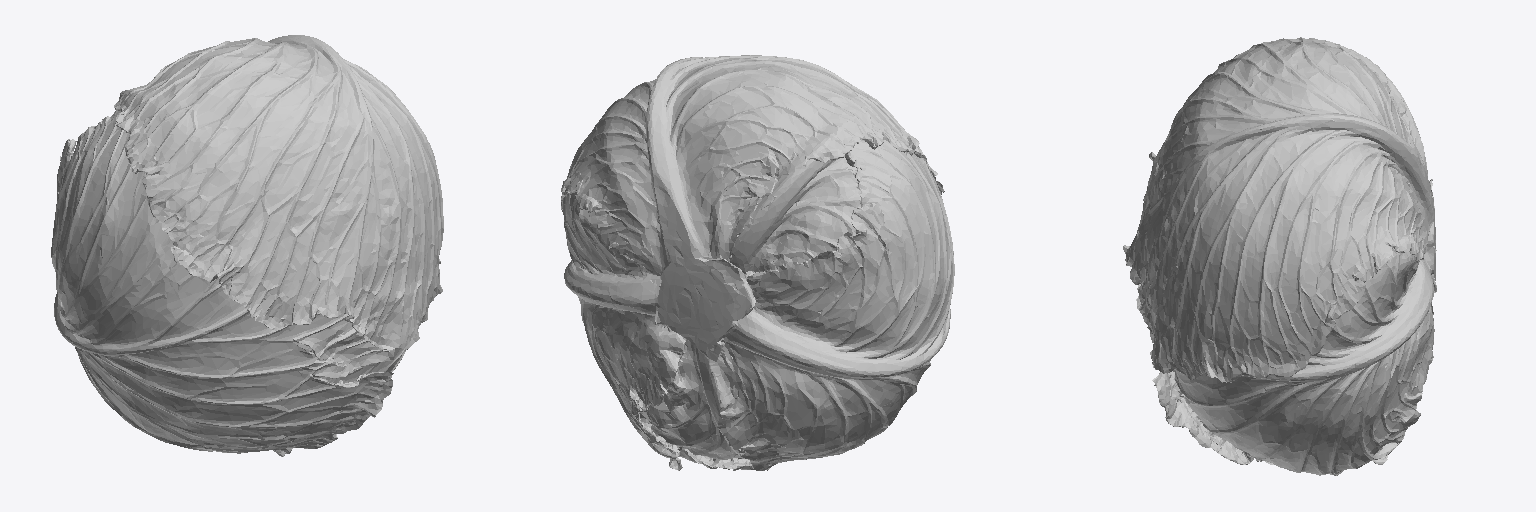
The model's file is cabbage.obj.
3 views of the same model, side by side, from view 1: azimuth 30°, elevation 25°; view 2: azimuth 150°, elevation 25°; view 3: azimuth 270°, elevation 25° (orthographic).
Size of the model in its own units: 0.1713 by 0.1793 by 0.1287.